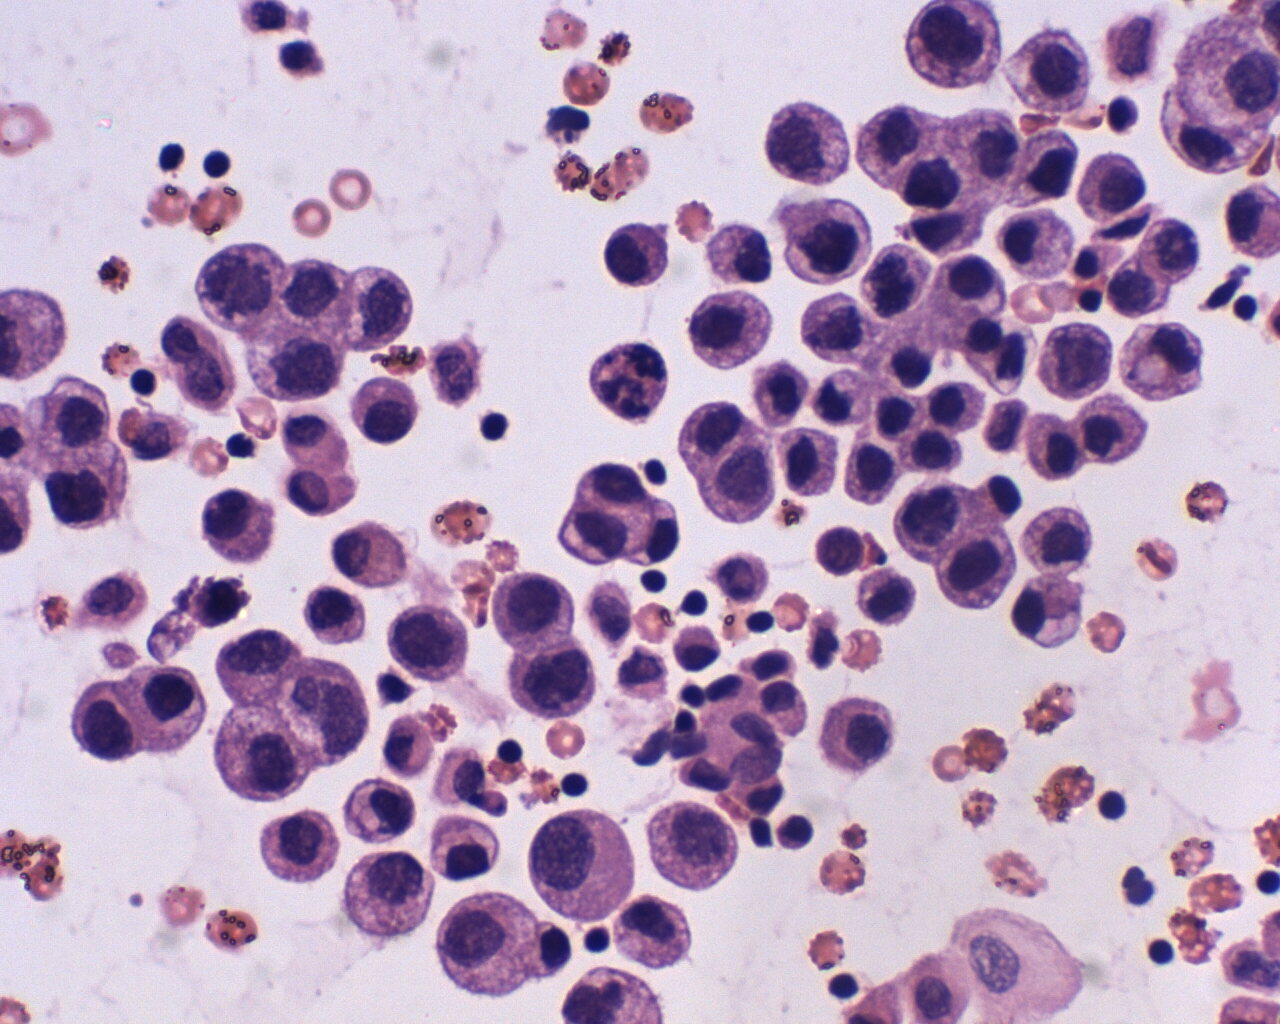ab: (526, 805, 646, 918), (280, 651, 366, 769), (904, 1, 1003, 101), (761, 96, 856, 196), (246, 321, 352, 405), (681, 284, 779, 369), (783, 194, 874, 285), (496, 647, 606, 720), (490, 566, 587, 649), (388, 599, 474, 691), (889, 475, 976, 564), (197, 237, 280, 330), (1033, 320, 1121, 406), (61, 680, 144, 766), (204, 628, 301, 701), (614, 894, 697, 976), (796, 287, 886, 360), (1014, 498, 1097, 576), (768, 420, 845, 504), (338, 766, 414, 850), (1076, 147, 1153, 229), (350, 259, 415, 353), (422, 812, 502, 879), (841, 435, 904, 506)
lymph: (1094, 787, 1135, 827), (1142, 933, 1182, 969)
meso: (820, 686, 902, 781), (897, 948, 977, 1024), (340, 375, 417, 450), (927, 377, 990, 432)
